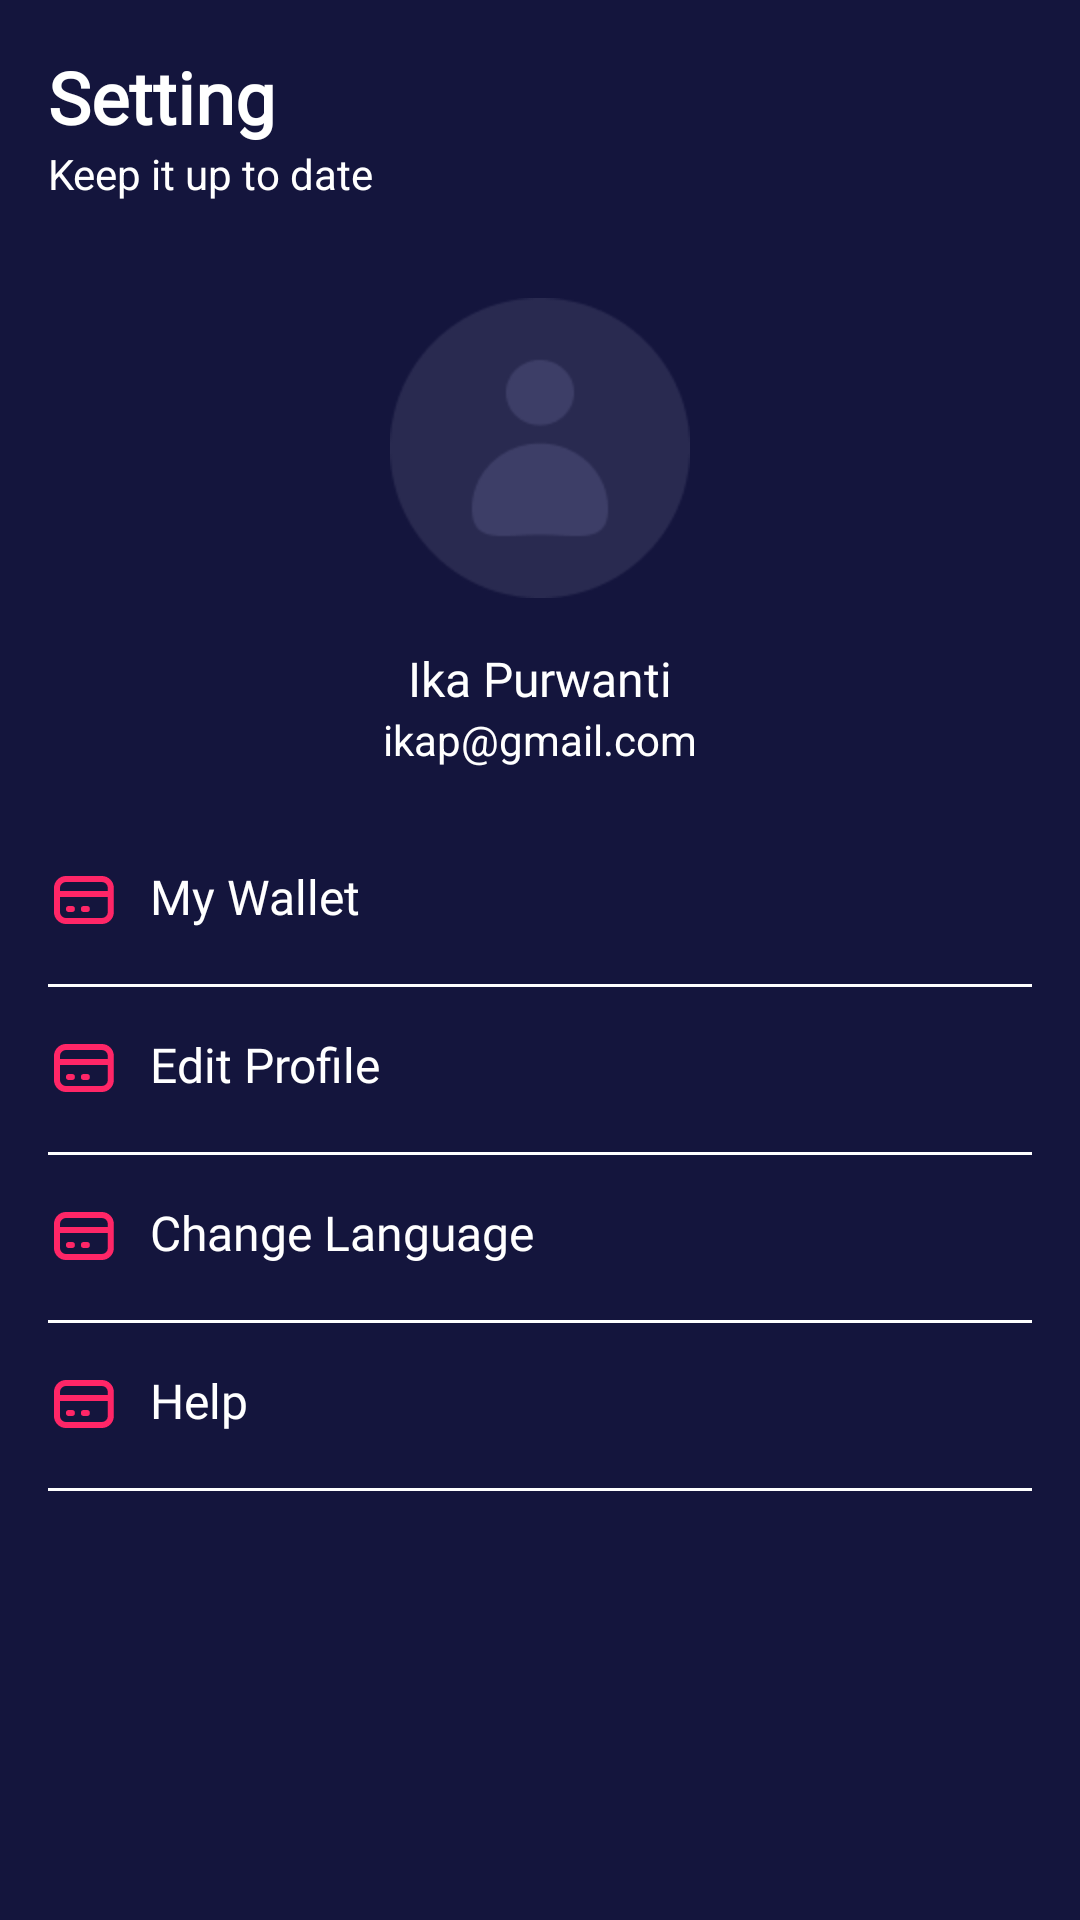

Named icons in this screenshot (1080px×1920px) and their centers, point (x, y):
user pic: point (540, 448)
